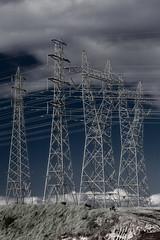power_tower: (73, 49, 118, 210), (42, 30, 75, 207), (116, 75, 153, 211), (6, 65, 33, 206)
